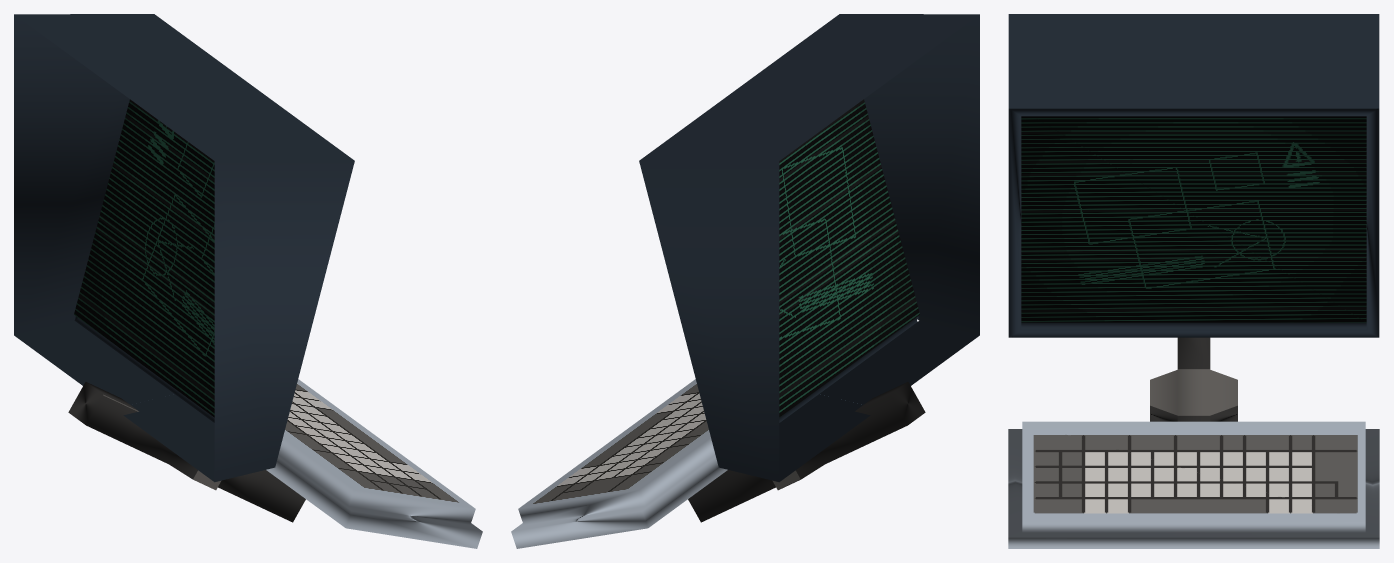
The model's file is ganymedeColnsole.obj.
3 renders of one model, left to right at view 1: azimuth 30°, elevation 25°; view 2: azimuth 150°, elevation 25°; view 3: azimuth 270°, elevation 25°, orthographic. The views are drawn at different scales.
Parts seen in each view (by area): view 1: Cube.003, Cube.002, Cube.004; view 2: Cube.003, Cube.002, Cube.004; view 3: Cube.003, Cube.002, Cube.004.
Part boxes in pixels (x1=…): Cube.003: x1=14, y1=14, x2=354, y2=482; Cube.002: x1=266, y1=379, x2=482, y2=548; Cube.004: x1=68, y1=382, x2=305, y2=522; Cube.003: x1=639, y1=14, x2=979, y2=482; Cube.002: x1=511, y1=379, x2=727, y2=548; Cube.004: x1=688, y1=382, x2=925, y2=522; Cube.003: x1=1008, y1=14, x2=1379, y2=337; Cube.002: x1=1008, y1=421, x2=1379, y2=548; Cube.004: x1=1150, y1=337, x2=1237, y2=421.
Bounding box in the file's own units: 2.79 × 4.11 × 3.19.
Materials: 3 (3 with a texture image).
